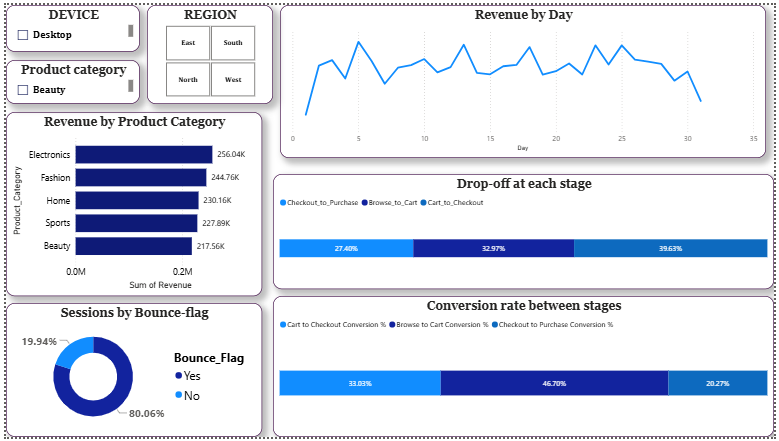

Layout of this report page (visuals, bound fields, positions):
{"tool":"powerbi","page":{"name":"Page 2","canvas":[1280,720],"ordinal":1},"visuals":[{"type":"barChart","title":"Revenue by Product Category","fields":{"Category":["funnel_analysis_data.Product_Category"],"Y":["Sum(funnel_analysis_data.Revenue)"]},"box":[0,178.3,426.7,306.7],"z":0},{"type":"donutChart","title":"Sessions by Bounce-flag","fields":{"Category":["funnel_analysis_data.Bounce_Flag"],"Y":["CountNonNull(funnel_analysis_data.Session_ID)"]},"box":[0,496.7,426.7,223.3],"z":1000},{"type":"hundredPercentStackedBarChart","title":"Drop-off at each stage","fields":{"Y":["funnel_analysis_data.Checkout_to_Purchase","funnel_analysis_data.Browse_to_Cart","funnel_analysis_data.Cart_to_Checkout"]},"box":[445,281.7,835,191.7],"z":2000},{"type":"hundredPercentStackedBarChart","title":"Conversion rate between stages","fields":{"Y":["funnel_analysis_data.Cart to Checkout Conversion %","funnel_analysis_data.Browse to Cart Conversion %","funnel_analysis_data.Checkout to Purchase Conversion %"]},"box":[445,485,835,235],"z":3000},{"type":"lineChart","title":" Revenue by Day","fields":{"Y":["Sum(funnel_analysis_data.Revenue)"],"Category":["funnel_analysis_data.Date.Variation.Date Hierarchy.Day"]},"box":[456.7,0,810,255],"z":4000},{"type":"slicer","title":"Product category","fields":{"Values":["funnel_analysis_data.Product_Category"]},"box":[0,91.7,223.3,73.3],"z":4001},{"type":"slicer","title":"DEVICE","fields":{"Values":["funnel_analysis_data.Device"]},"box":[0,0,223.3,78.3],"z":4002},{"type":"slicer","title":"REGION","fields":{"Values":["funnel_analysis_data.Region"]},"box":[235,0,210,165],"z":4003}]}

Visuals, with their boxes in screenshot pixels (x1, y1, x2, y2), scaled from the page's 1280x720 canvas onto the 779x441 screenshot:
"Revenue by Product Category" barChart: region(0, 109, 260, 297)
"Sessions by Bounce-flag" donutChart: region(0, 304, 260, 440)
"Drop-off at each stage" hundredPercentStackedBarChart: region(271, 173, 778, 290)
"Conversion rate between stages" hundredPercentStackedBarChart: region(271, 297, 778, 440)
" Revenue by Day" lineChart: region(278, 0, 771, 156)
"Product category" slicer: region(0, 56, 136, 101)
"DEVICE" slicer: region(0, 0, 136, 48)
"REGION" slicer: region(143, 0, 271, 101)
